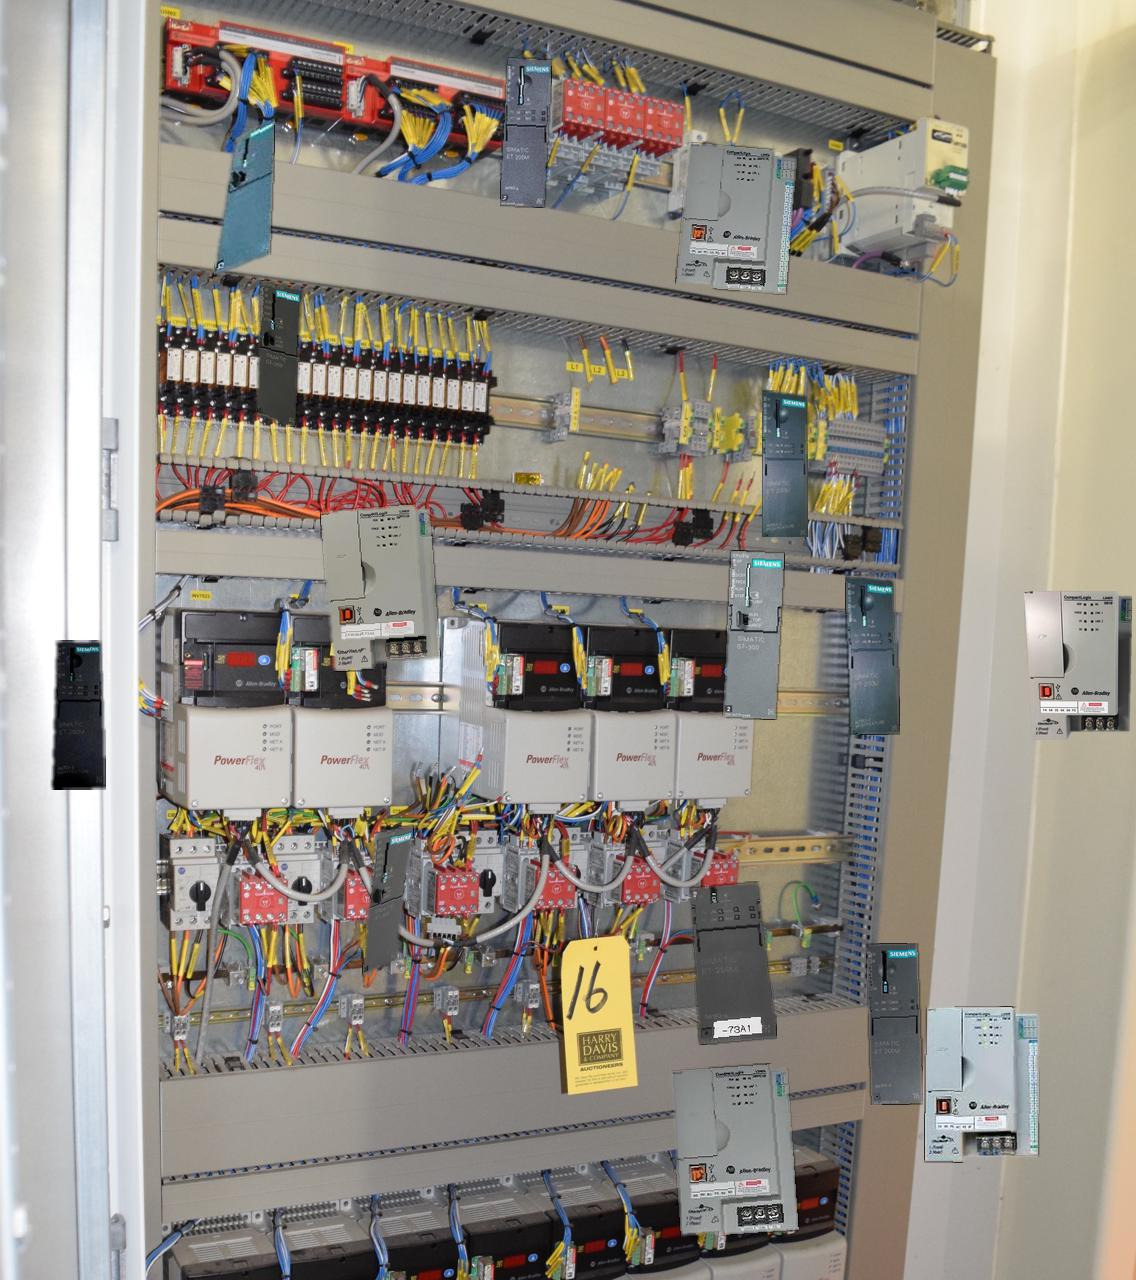AllenBradley: (672, 1064, 798, 1234), (321, 505, 439, 670), (675, 144, 795, 293), (925, 1007, 1037, 1162), (1024, 591, 1131, 739)
Siemens: (724, 551, 783, 718), (214, 118, 274, 274), (363, 826, 412, 975), (257, 281, 302, 424)
